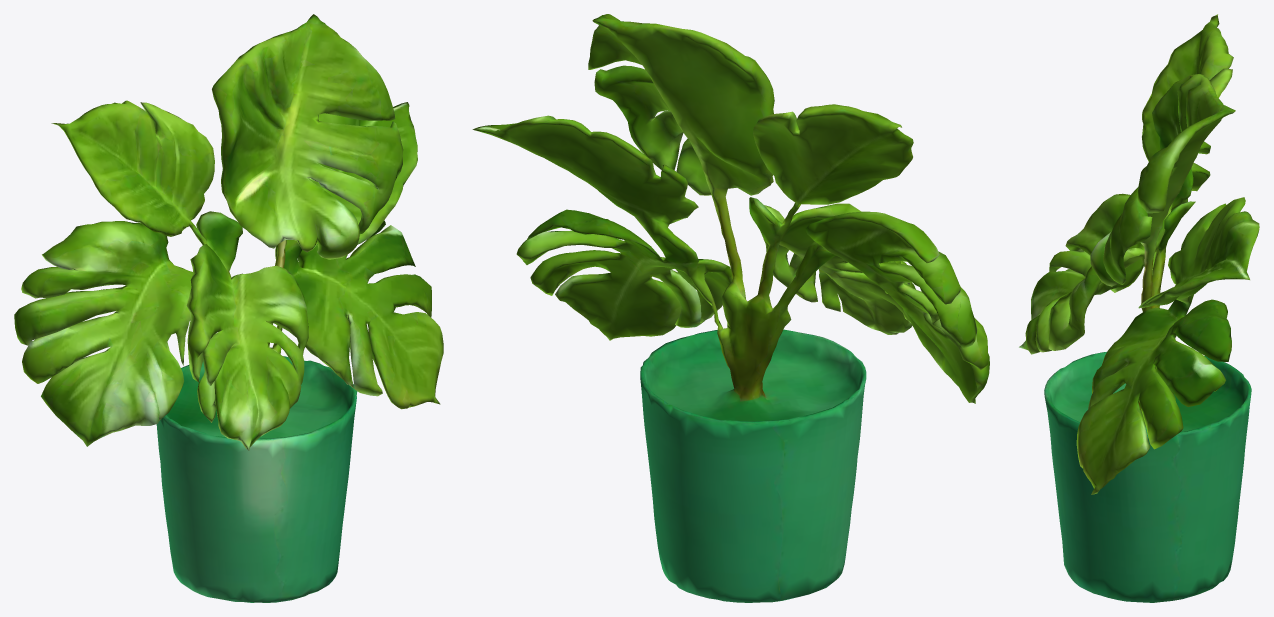
File: 11_monstera_plant.glb
3 renders of one model, left to right at view 1: azimuth 30°, elevation 25°; view 2: azimuth 150°, elevation 25°; view 3: azimuth 270°, elevation 25°, orthographic. The views are drawn at different scales.
Visible parts, largest first — view 1: geometry_0; view 2: geometry_0; view 3: geometry_0.
Part boxes in pixels (x1=…): geometry_0: x1=14, y1=14, x2=443, y2=602; geometry_0: x1=472, y1=14, x2=989, y2=602; geometry_0: x1=1019, y1=14, x2=1259, y2=602.
Bounding box in the file's own units: 1.68 × 1.9 × 0.8188.
1 material, 1 textured.
